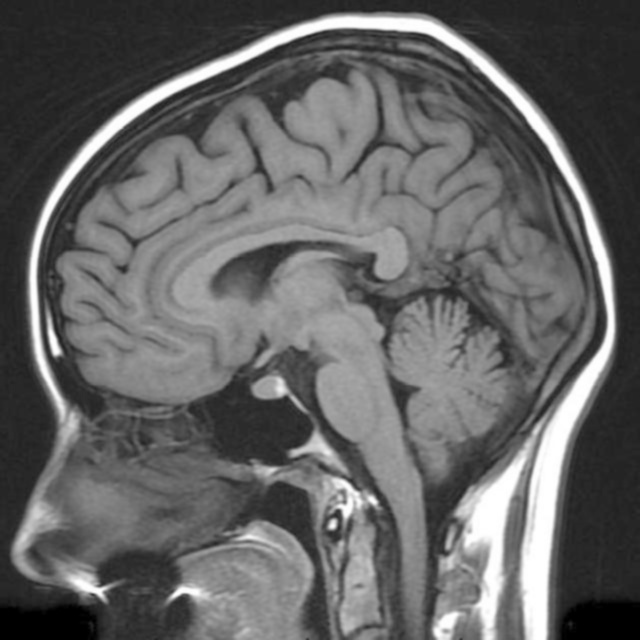glioma tumor: (77, 148, 533, 458)
